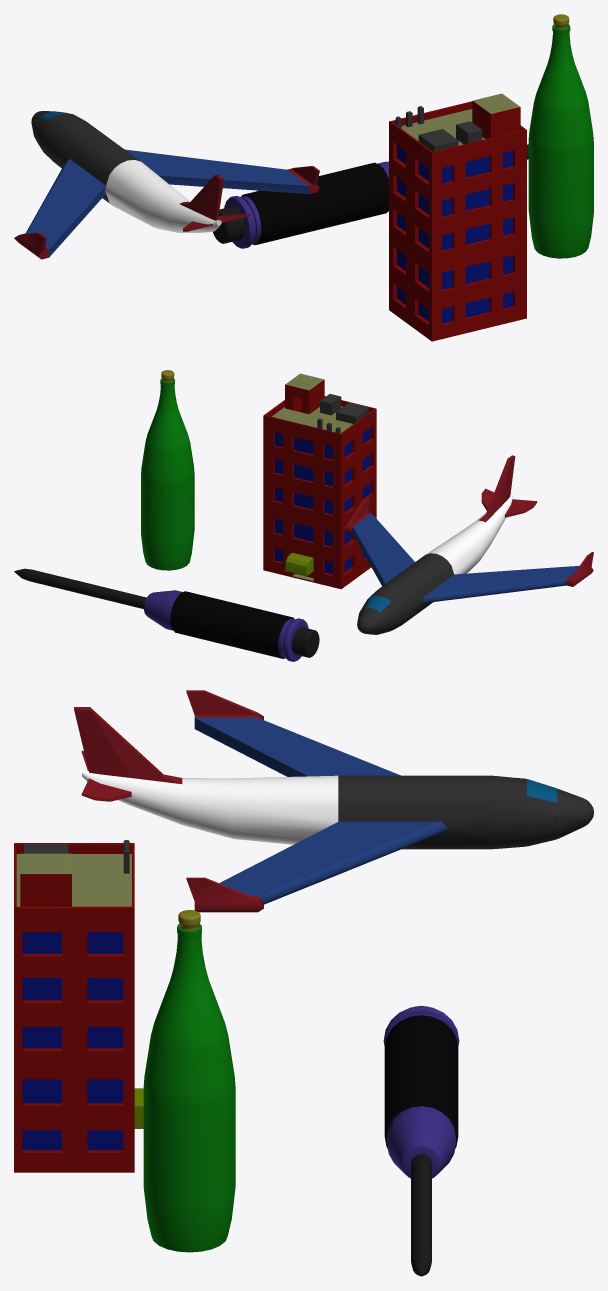
3 views of the same model, one above another, from view 1: azimuth 30°, elevation 25°; view 2: azimuth 150°, elevation 25°; view 3: azimuth 270°, elevation 25° (orthographic). The views are drawn at different scales.
Visible parts, largest first — view 1: Building, Plane, Bottle4, pCylinder1; view 2: Building, Plane, pCylinder1, Bottle4; view 3: Plane, Building, Bottle4, pCylinder1.
Part boxes in pixels (x1=…): Building: x1=389, y1=93, x2=526, y2=341; Plane: x1=14, y1=111, x2=319, y2=259; Bottle4: x1=528, y1=14, x2=593, y2=258; pCylinder1: x1=213, y1=144, x2=528, y2=248; Building: x1=263, y1=373, x2=376, y2=589; Plane: x1=343, y1=455, x2=593, y2=634; pCylinder1: x1=14, y1=568, x2=319, y2=661; Bottle4: x1=141, y1=370, x2=194, y2=570; Plane: x1=74, y1=690, x2=593, y2=912; Building: x1=14, y1=840, x2=143, y2=1172; Bottle4: x1=143, y1=910, x2=235, y2=1252; pCylinder1: x1=383, y1=1005, x2=459, y2=1276.
Bounding box in the file's own units: 34.59 × 12.26 × 19.82.
